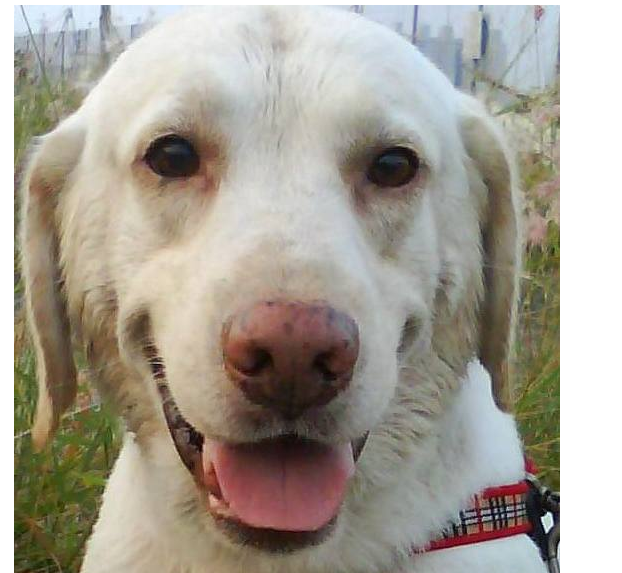nose: (220, 285, 373, 420)
